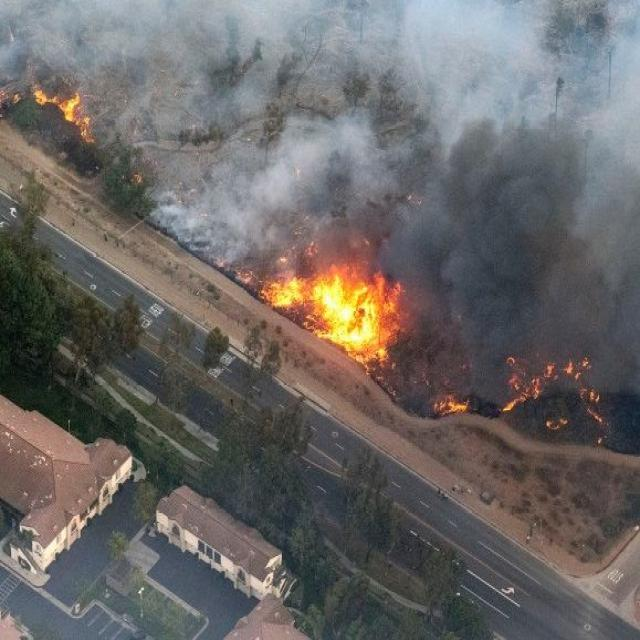Fire: (274, 259, 415, 365), (20, 87, 110, 156)
Smoke: (4, 0, 640, 440)
